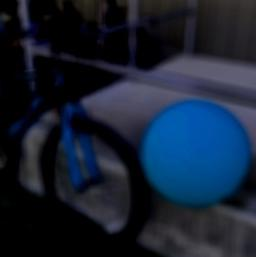algae: (139, 98, 251, 206)
